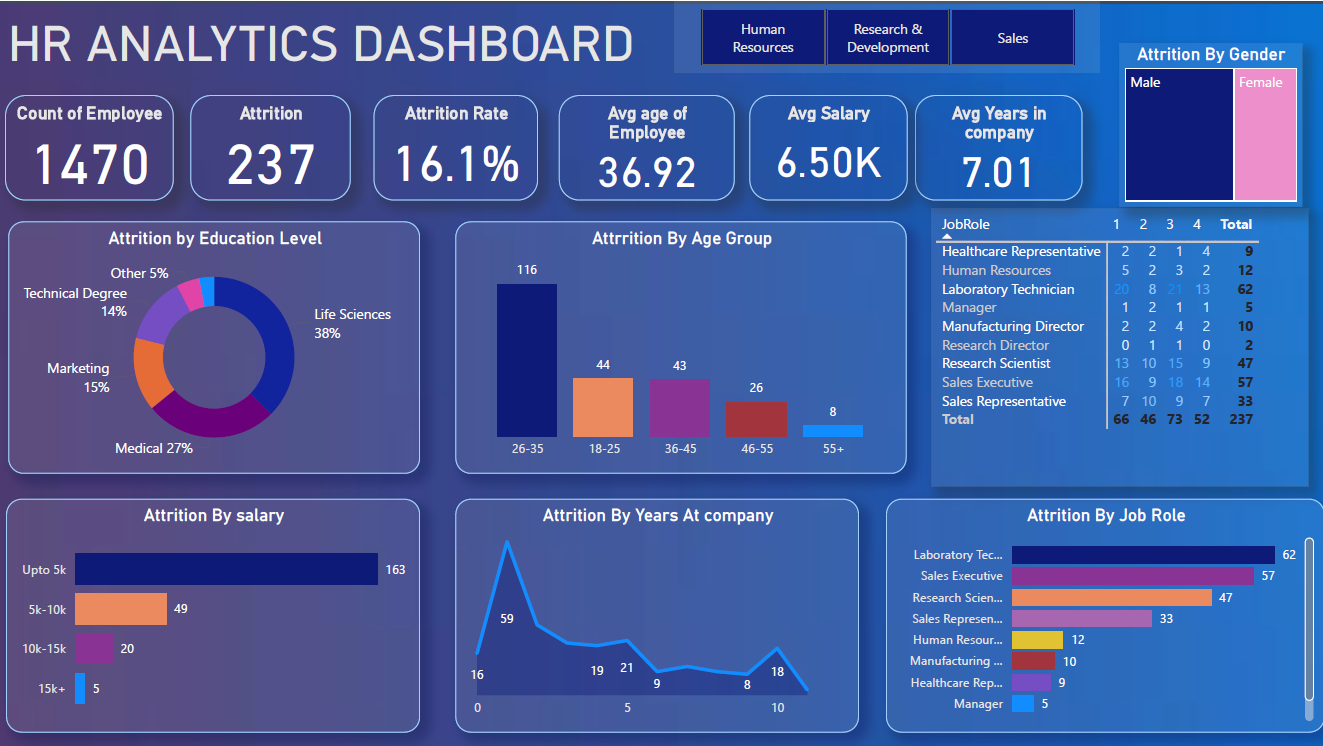

This screenshot's page, from the dashboard's own definition file:
{"tool":"powerbi","page":{"name":"Page 1","canvas":[1280,720],"ordinal":0},"visuals":[{"type":"card","title":"Count of Employee","fields":{"Values":["CountNonNull(HR_Analytics.EmpID)"]},"box":[5.4,89.7,162.7,102.4],"z":0},{"type":"card","title":"Avg age of Employee","fields":{"Values":["Avg(HR_Analytics.Age)"]},"box":[539.6,89.7,170.7,102.4],"z":1000},{"type":"card","title":"Attrition Rate","fields":{"Values":["HR_Analytics.AttritionRate"]},"box":[360.9,89.7,158.7,102.4],"z":2000},{"type":"card","title":"Attrition","fields":{"Values":["Sum(HR_Analytics.AttritionScore)"]},"box":[184.1,89.7,154.6,102.4],"z":3000},{"type":"card","title":"Avg Years in company","fields":{"Values":["Avg(HR_Analytics.YearsAtCompany)"]},"box":[884,90,162,102],"z":4000},{"type":"card","title":"Avg Salary","fields":{"Values":["Avg(HR_Analytics.MonthlyIncome)"]},"box":[724.4,89.7,152.6,102.4],"z":5000},{"type":"donutChart","title":"Attrition by Education Level","fields":{"Category":["HR_Analytics.EducationField"],"Y":["Sum(HR_Analytics.AttritionScore)"]},"box":[8,212,398,244],"z":6000},{"type":"clusteredColumnChart","title":"Attrrition By Age Group","fields":{"Y":["Sum(HR_Analytics.AttritionScore)"],"Category":["HR_Analytics.AgeGroup"]},"box":[440,212,436,244],"z":7000},{"type":"pivotTable","fields":{"Rows":["HR_Analytics.JobRole"],"Columns":["HR_Analytics.JobSatisfaction"],"Values":["Sum(HR_Analytics.AttritionScore)"]},"box":[900,200,364,268],"z":8000},{"type":"clusteredBarChart","title":"Attrition By salary ","fields":{"Category":["HR_Analytics.SalarySlab"],"Y":["Sum(HR_Analytics.AttritionScore)"]},"box":[6,480,400,226],"z":9000},{"type":"clusteredBarChart","title":"Attrition By Job Role ","fields":{"Category":["HR_Analytics.JobRole"],"Y":["Sum(HR_Analytics.AttritionScore)"]},"box":[856,480,424,226],"z":10000},{"type":"stackedAreaChart","title":"Attrition By Years At company ","fields":{"Category":["HR_Analytics.YearsAtCompany"],"Y":["Sum(HR_Analytics.AttritionScore)"]},"box":[440,480,390,226],"z":11000},{"type":"treemap","title":"Attrition By Gender","fields":{"Group":["HR_Analytics.Gender"],"Values":["Sum(HR_Analytics.AttritionScore)"]},"box":[1082,40,176,158],"z":12000},{"type":"slicer","title":"Attrition By salary ","fields":{"Values":["HR_Analytics.Department"]},"box":[652,0,410,68],"z":13000},{"type":"shape","title":"HR ANALYTICS DASHBOARD","box":[8,12,664,56],"z":14000}]}

Visuals, with their boxes in screenshot pixels (x1, y1, x2, y2), scaled from the page's 1280x720 canvas onto the 1323x746 screenshot:
"Count of Employee" card: 6,93,174,199
"Avg age of Employee" card: 558,93,734,199
"Attrition Rate" card: 373,93,537,199
"Attrition" card: 190,93,350,199
"Avg Years in company" card: 914,93,1081,199
"Avg Salary" card: 749,93,906,199
"Attrition by Education Level" donutChart: 8,220,420,472
"Attrrition By Age Group" clusteredColumnChart: 455,220,905,472
pivotTable - HR_Analytics.JobRole x HR_Analytics.JobSatisfaction: 930,207,1306,485
"Attrition By salary " clusteredBarChart: 6,497,420,731
"Attrition By Job Role " clusteredBarChart: 885,497,1322,731
"Attrition By Years At company " stackedAreaChart: 455,497,858,731
"Attrition By Gender" treemap: 1118,41,1300,205
"Attrition By salary " slicer: 674,0,1098,70
"HR ANALYTICS DASHBOARD" shape: 8,12,695,70
